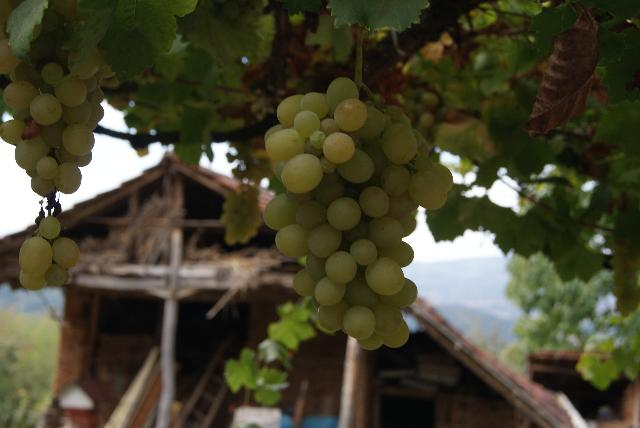grapes: (264, 78, 452, 350), (0, 38, 104, 290)
